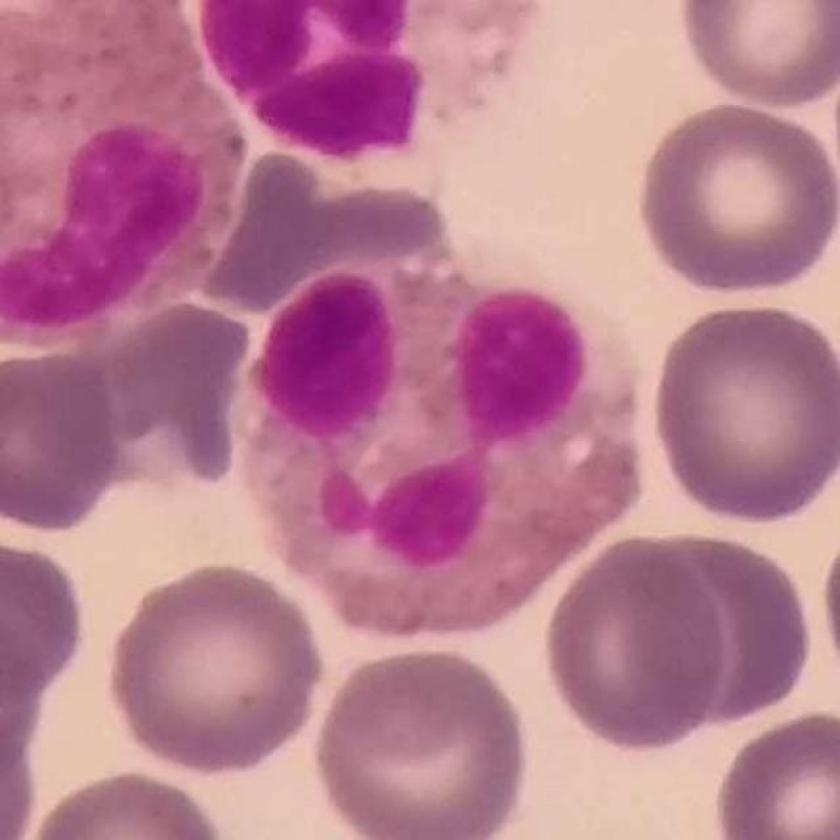eosinophil: (244, 253, 649, 641)
